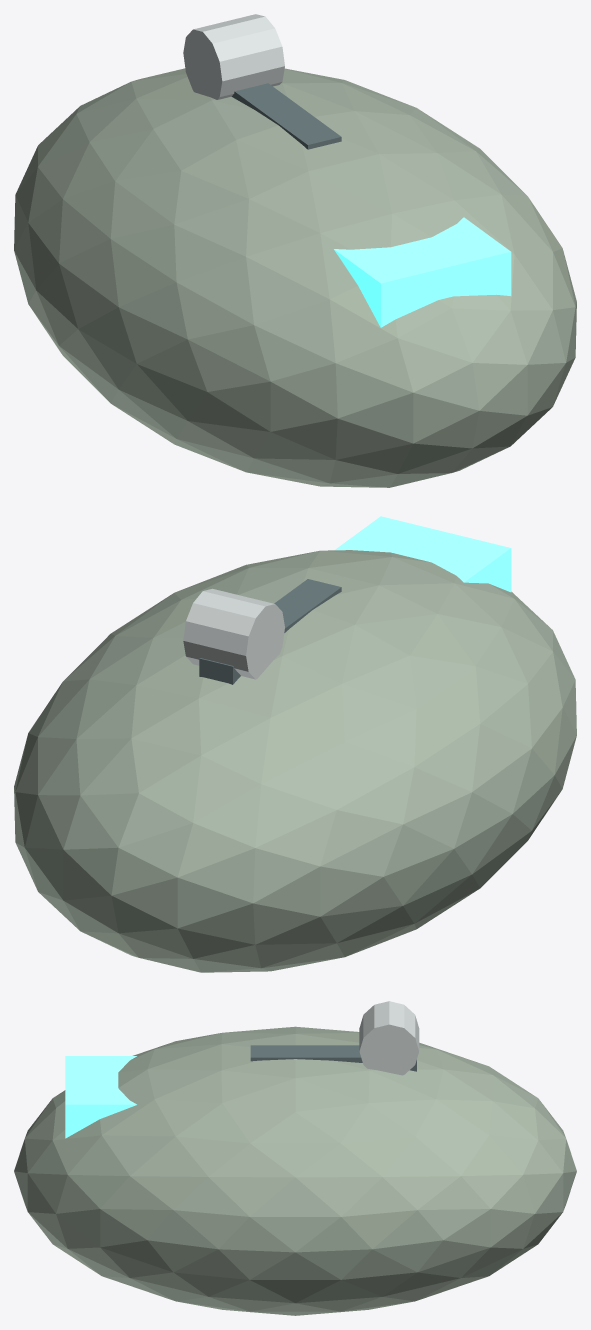
File: s7-e0e1-w06-ergonomic-mouse.glb
3 views of the same model, one above another, from view 1: azimuth 30°, elevation 25°; view 2: azimuth 150°, elevation 25°; view 3: azimuth 270°, elevation 25° (orthographic). The views are drawn at different scales.
Visible parts, largest first — view 1: ergonomic-mouse-shell-000, mouse-light-003, scroll-wheel-002, mouse-button-divider-001; view 2: ergonomic-mouse-shell-000, scroll-wheel-002, mouse-light-003, mouse-button-divider-001; view 3: ergonomic-mouse-shell-000, mouse-light-003, scroll-wheel-002, mouse-button-divider-001.
Part boxes in pixels (x1,y1,x2,y2): ergonomic-mouse-shell-000: (14,68,576,487); mouse-light-003: (334,217,511,327); scroll-wheel-002: (183,14,284,99); mouse-button-divider-001: (231,83,341,149); ergonomic-mouse-shell-000: (14,550,576,972); scroll-wheel-002: (183,588,284,679); mouse-light-003: (335,516,511,592); mouse-button-divider-001: (199,579,341,684); ergonomic-mouse-shell-000: (14,1026,576,1315); mouse-light-003: (65,1056,136,1138); scroll-wheel-002: (359,1001,419,1075); mouse-button-divider-001: (250,1045,416,1071).
Size of the model in its own units: 0.09 by 0.072 by 0.132.
